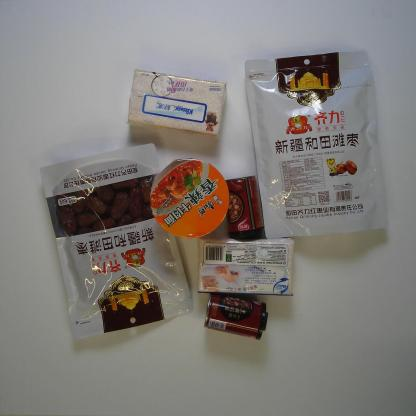Canned Food: (202, 289, 271, 342), (221, 174, 266, 241)
Dried Food: (38, 141, 195, 345), (242, 47, 391, 241)
Instant Noodles: (147, 154, 232, 244)
Tissue: (127, 68, 228, 137), (196, 236, 292, 298)
